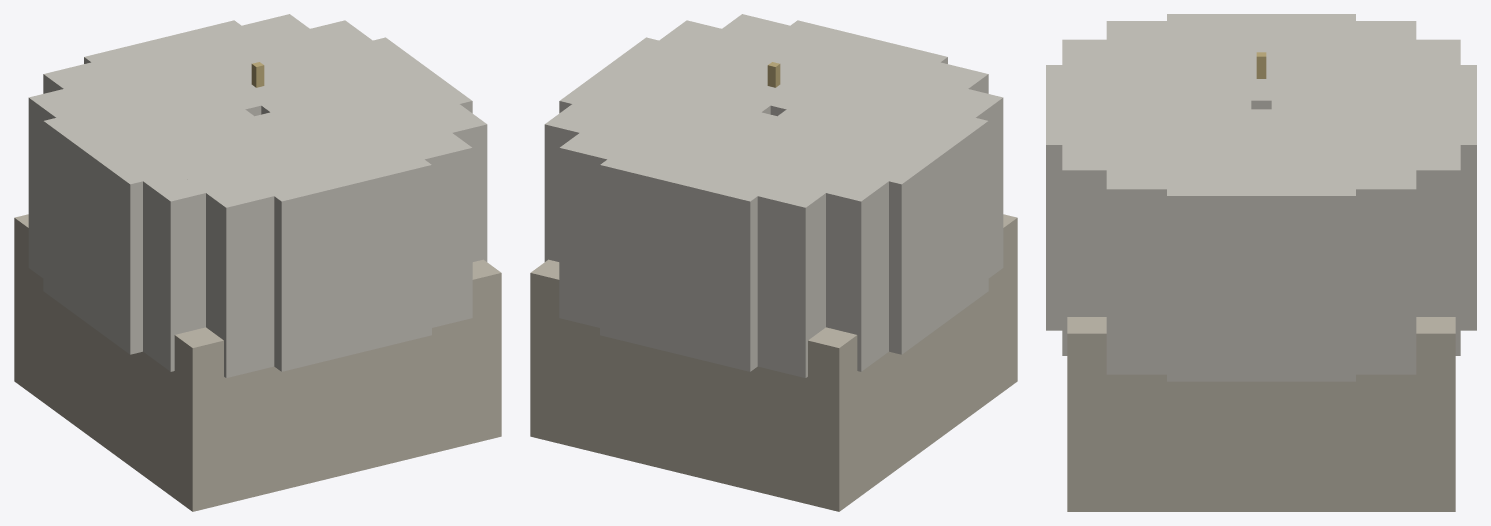
The model's file is iz3_historic_dome_01.glb.
The picture shows the model from 3 angles, left to right: view 1: azimuth 30°, elevation 25°; view 2: azimuth 150°, elevation 25°; view 3: azimuth 270°, elevation 25°; orthographic projection. The views are drawn at different scales.
Parts seen in each view (by area): view 1: drum, dome_segment_03, dome_segment_06, dome_segment_04, dome_segment_01, dome_segment_05, dome_segment_02, dome_segment_10, dome_segment_08, dome_segment_07, dome_segment_09, dome_segment_00 (+1 smaller); view 2: drum, dome_segment_09, dome_segment_06, dome_segment_08, dome_segment_11, dome_segment_07, dome_segment_04, dome_segment_01, dome_segment_10, dome_segment_02, dome_segment_03, dome_segment_05 (+1 smaller); view 3: drum, dome_segment_00, dome_segment_01, dome_segment_02, dome_segment_11, dome_segment_10, dome_segment_09, dome_segment_03, dome_segment_06, dome_segment_05, dome_segment_07, dome_segment_08 (+1 smaller).
Boxes of the visible parts, bbox=[...] form: drum: bbox=[14, 214, 501, 511]; dome_segment_03: bbox=[205, 143, 431, 371]; dome_segment_06: bbox=[43, 98, 279, 354]; dome_segment_04: bbox=[140, 114, 373, 377]; dome_segment_01: bbox=[253, 61, 487, 261]; dome_segment_05: bbox=[92, 109, 318, 371]; dome_segment_02: bbox=[236, 108, 472, 327]; dome_segment_10: bbox=[141, 14, 373, 116]; dome_segment_08: bbox=[43, 37, 261, 137]; dome_segment_07: bbox=[28, 61, 263, 277]; dome_segment_09: bbox=[84, 20, 290, 113]; dome_segment_00: bbox=[237, 37, 472, 122]; drum: bbox=[530, 214, 1017, 511]; dome_segment_09: bbox=[600, 115, 781, 371]; dome_segment_06: bbox=[752, 109, 988, 354]; dome_segment_08: bbox=[656, 112, 891, 377]; dome_segment_11: bbox=[544, 61, 776, 261]; dome_segment_07: bbox=[711, 110, 907, 371]; dome_segment_04: bbox=[770, 37, 988, 137]; dome_segment_01: bbox=[632, 20, 835, 119]; dome_segment_10: bbox=[559, 112, 793, 327]; dome_segment_02: bbox=[659, 14, 891, 113]; dome_segment_03: bbox=[736, 20, 947, 120]; dome_segment_05: bbox=[767, 89, 1003, 277]; drum: bbox=[1067, 317, 1455, 511]; dome_segment_00: bbox=[1167, 116, 1355, 381]; dome_segment_01: bbox=[1106, 109, 1295, 374]; dome_segment_02: bbox=[1062, 90, 1251, 355]; dome_segment_11: bbox=[1227, 109, 1416, 374]; dome_segment_10: bbox=[1271, 92, 1460, 355]; dome_segment_09: bbox=[1287, 65, 1476, 330]; dome_segment_03: bbox=[1046, 65, 1235, 330]; dome_segment_06: bbox=[1167, 14, 1355, 93]; dome_segment_05: bbox=[1106, 21, 1295, 109]; dome_segment_07: bbox=[1227, 21, 1416, 109]; dome_segment_08: bbox=[1271, 39, 1460, 119].
Bounding box in the file's own units: 6.56 × 6.31 × 6.56.
